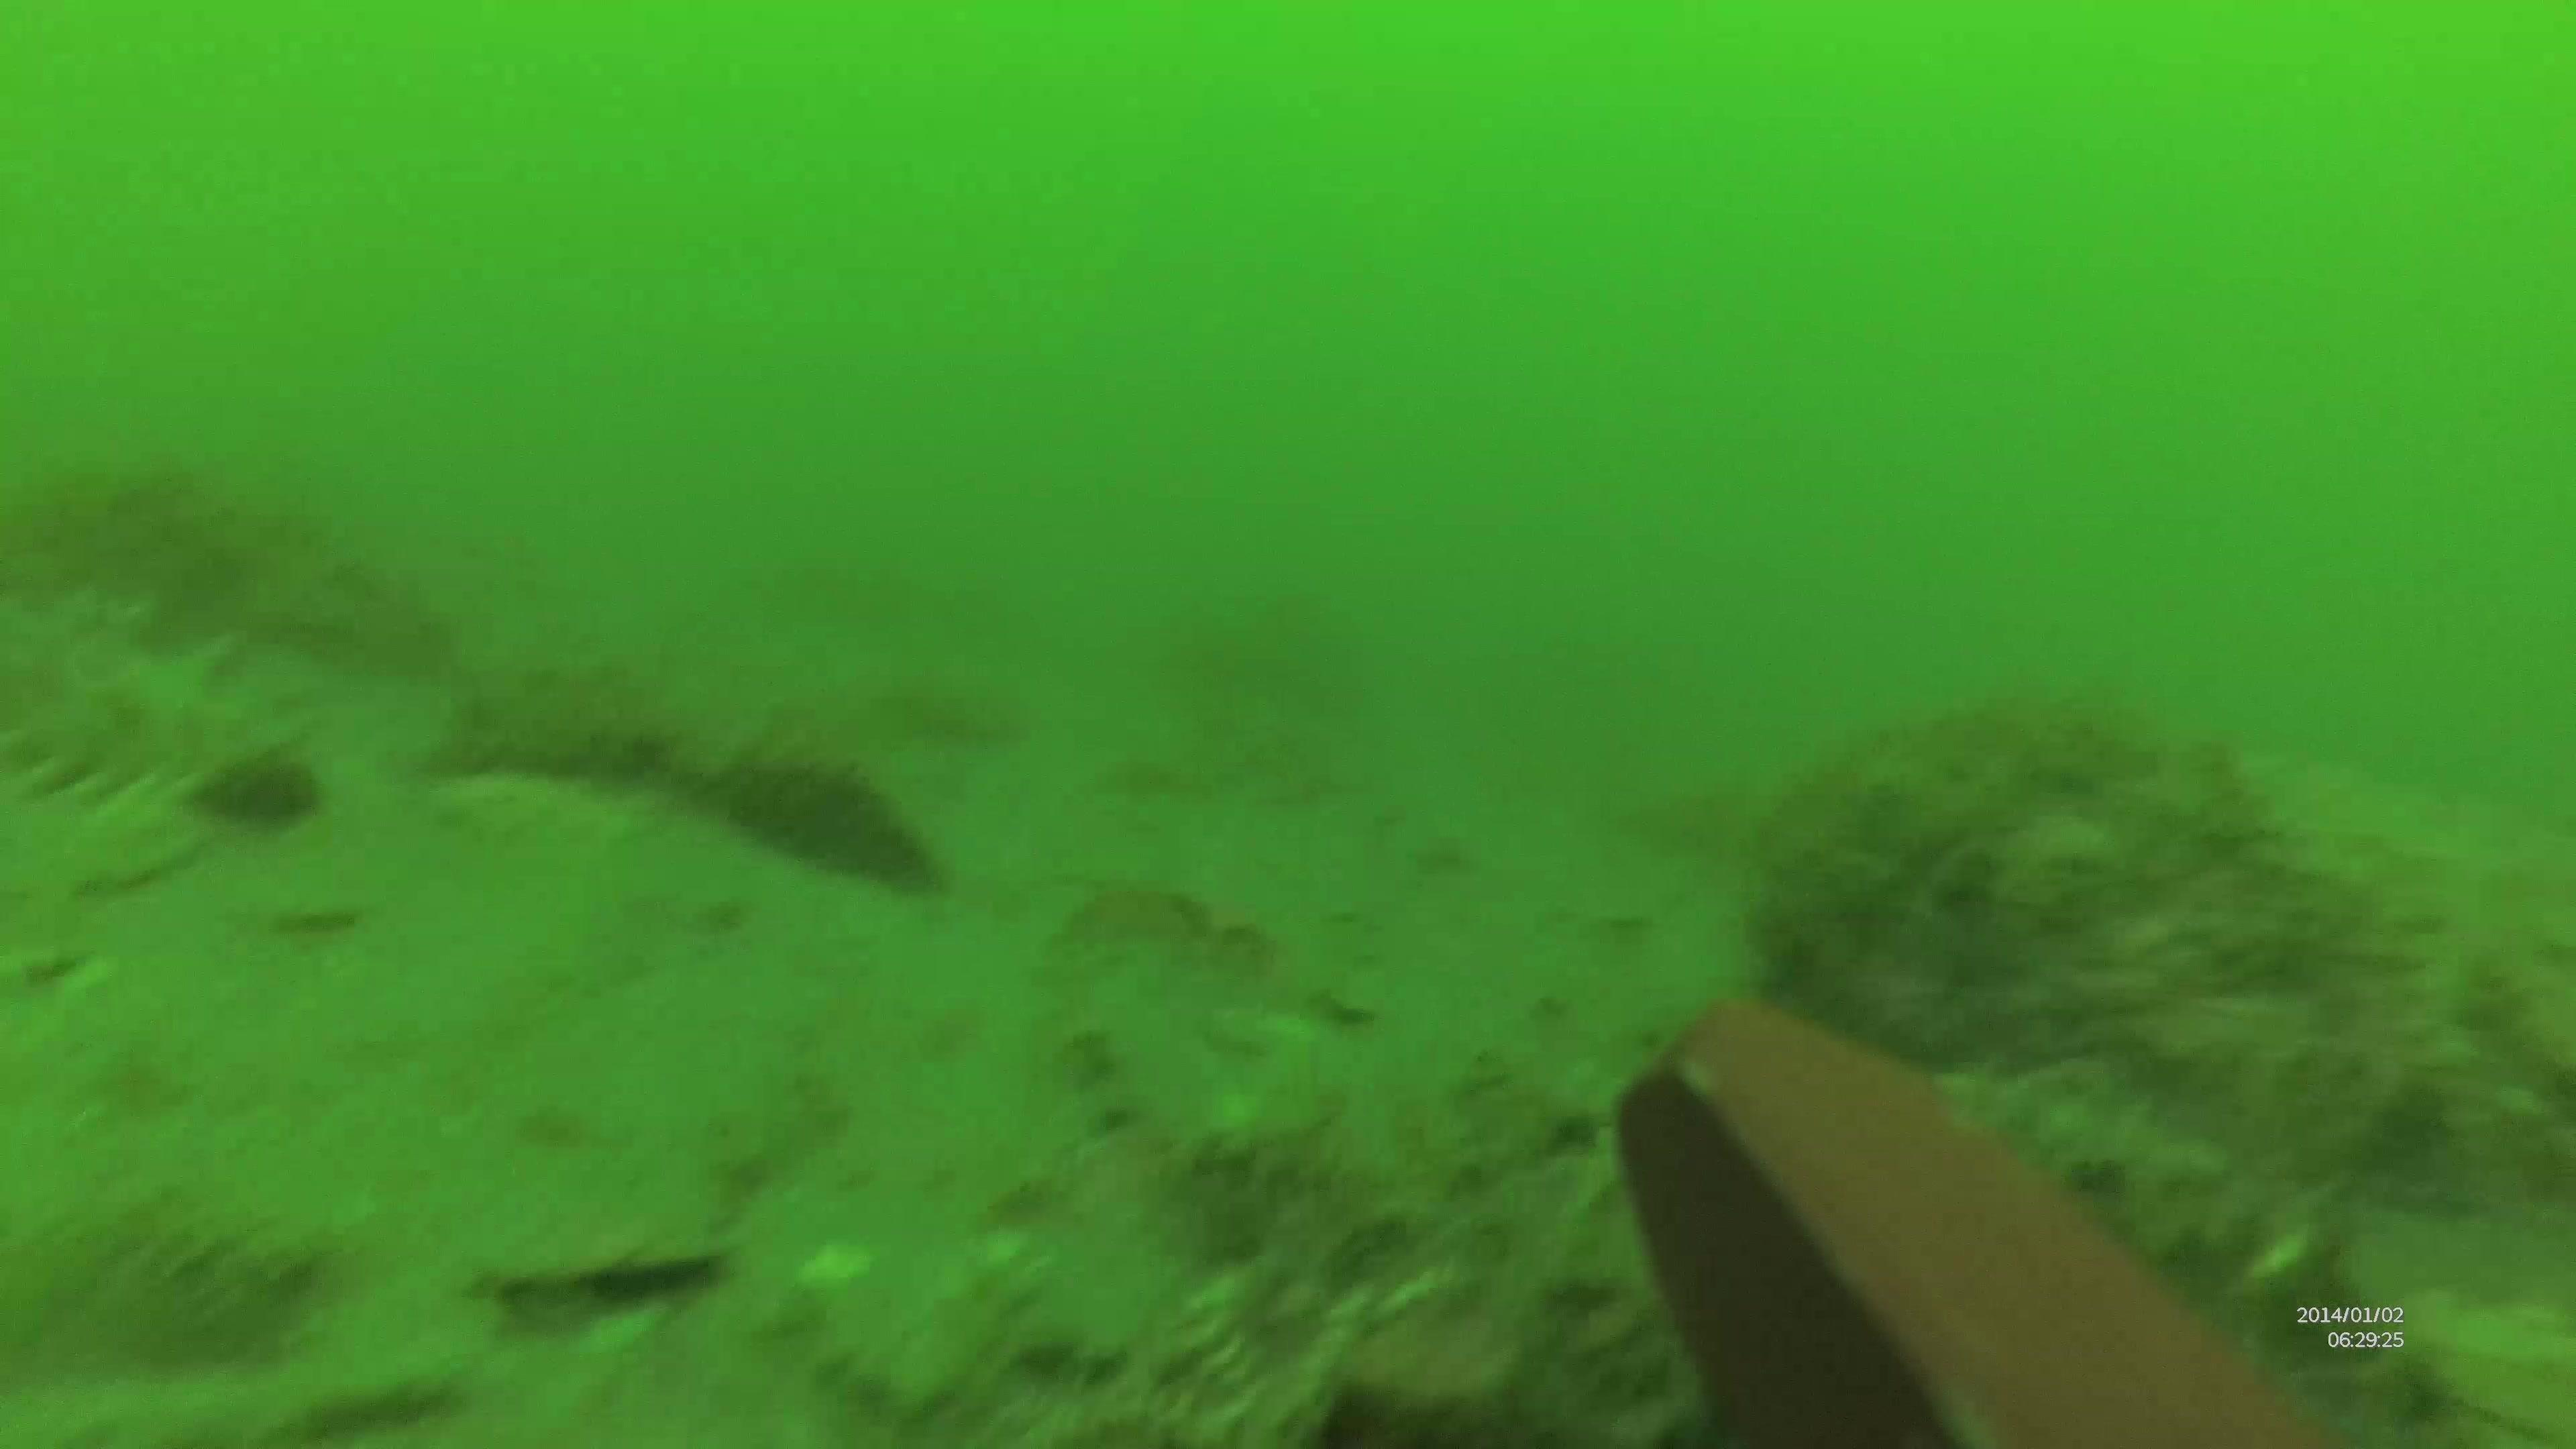holothurian: (0, 594, 340, 833)
